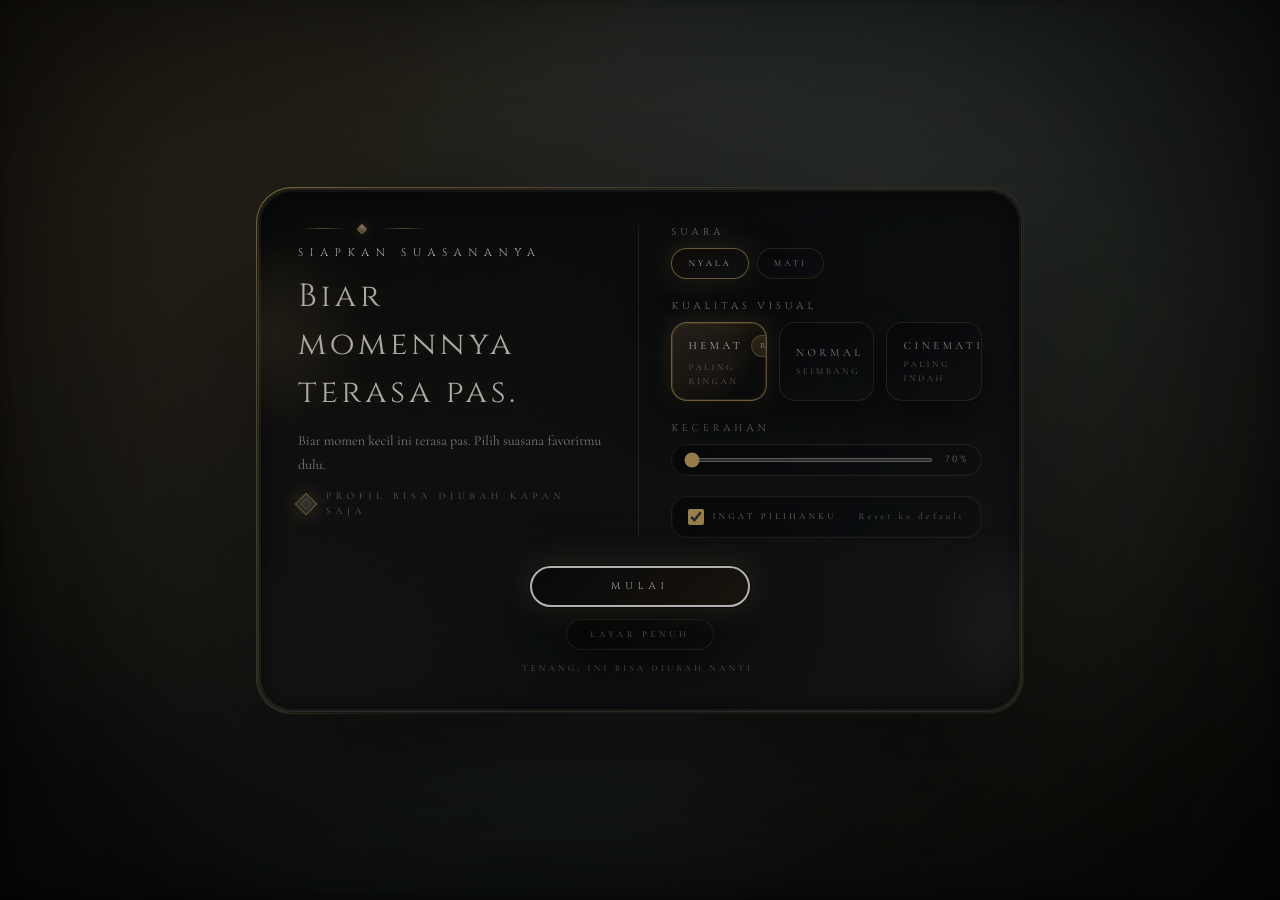
Test: Garden › shows the pre-intro gate entry control
This screenshot has width=1280, height=900.
Step 1. Click the button "Mulai" → {"x": 640, "y": 586}, box [530, 566, 750, 606]
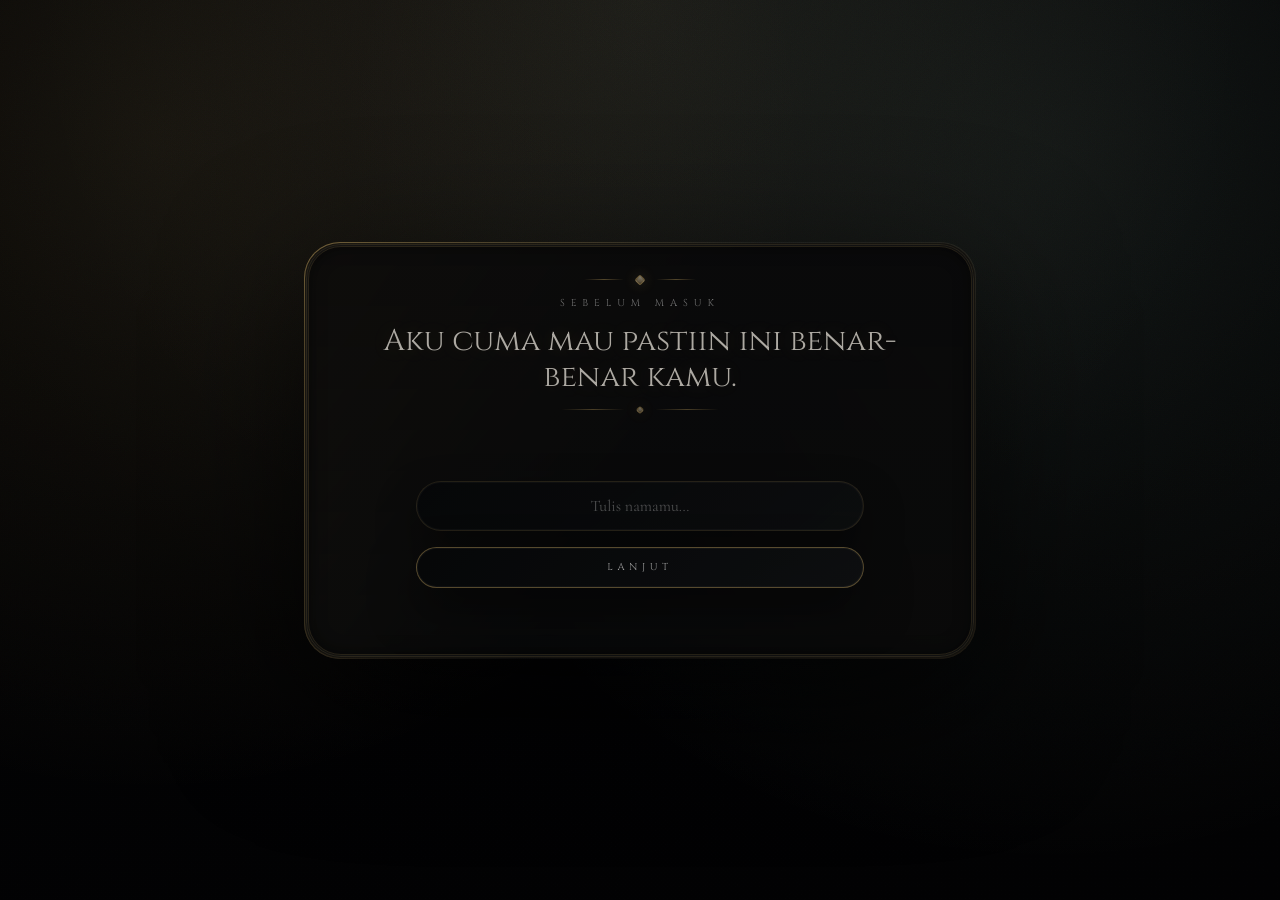
Expected: the field with placeholder "Tulis namamu…" is shown, [416, 481, 864, 531]
Expected: the button "Lanjut" is shown, [416, 547, 864, 588]
